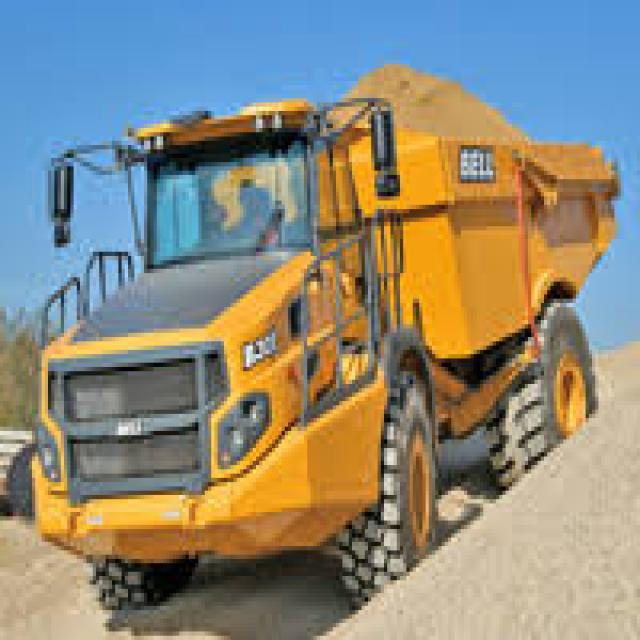dump_truck: (16, 51, 627, 614)
